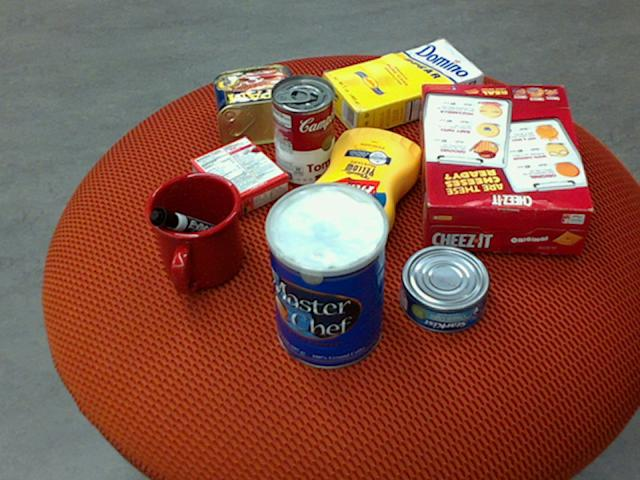cracker_box: (419, 83, 594, 252)
gelatin_box: (189, 135, 287, 220)
large_marker: (148, 208, 232, 246)
master_chef_can: (262, 184, 384, 370)
mug: (142, 173, 243, 295)
mustard_bottle: (300, 127, 422, 271)
potted_meat_can: (214, 64, 307, 147)
sugar_box: (321, 38, 484, 137)
tomato_soup_can: (271, 73, 334, 184)
tuna_fish_can: (400, 244, 490, 333)
